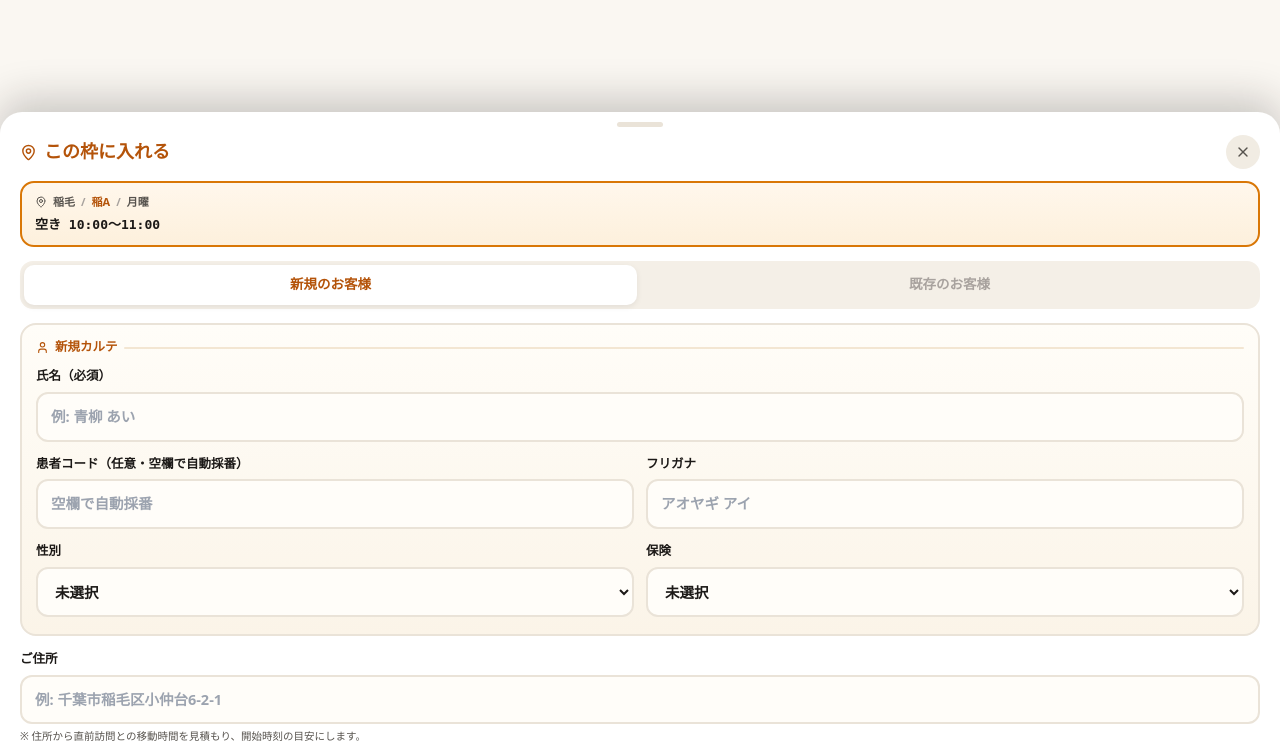
Scenario: PlacementSheet 配置方法トグル (Phase G-85) › 既存モードでは「配置方法」トグルを出す
Click the button "既存のお客様".
click(950, 285)  # box x1=643 y1=265 x2=1256 y2=305
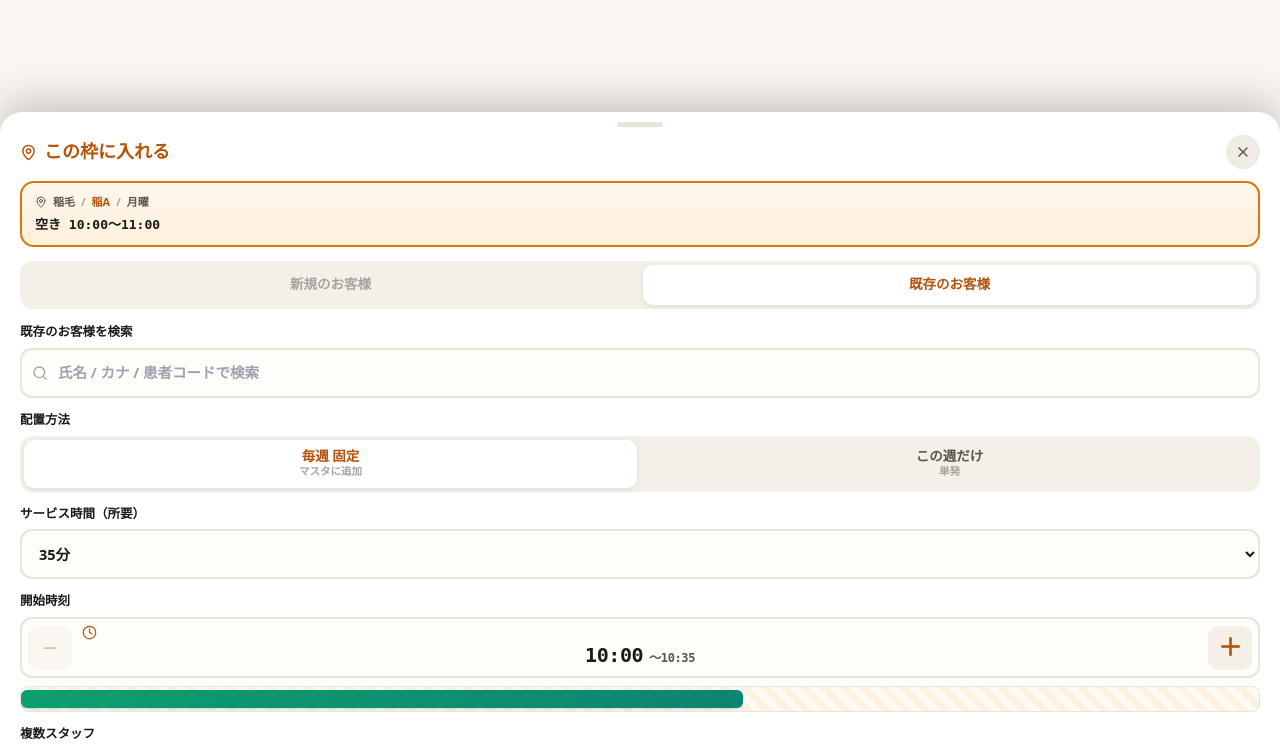
Result: the text "配置方法" is shown at x1=20 y1=413 x2=70 y2=427
Result: the text "毎週 固定" is shown at x1=302 y1=448 x2=359 y2=464
Result: the text "この週だけ" is shown at x1=916 y1=448 x2=983 y2=464
